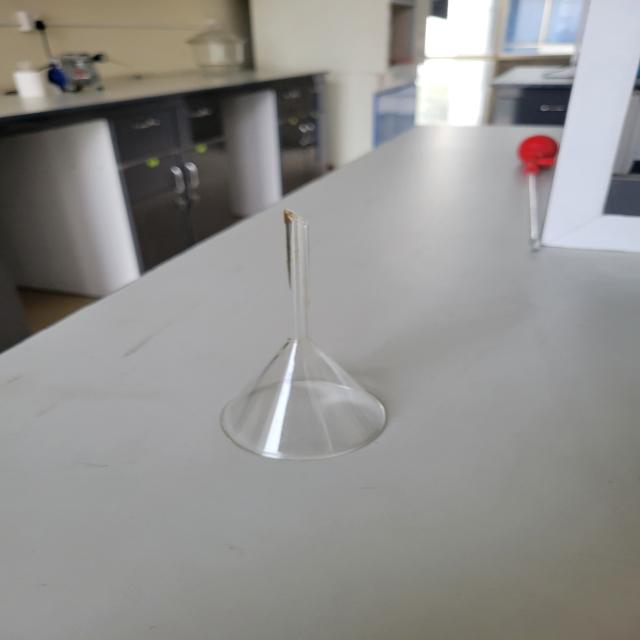Funnel: (200, 173, 424, 484)
